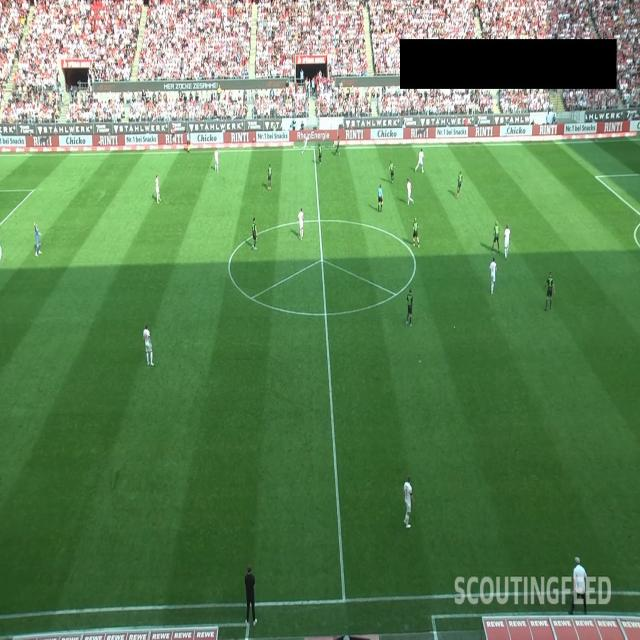ball: (301, 150, 303, 155)
